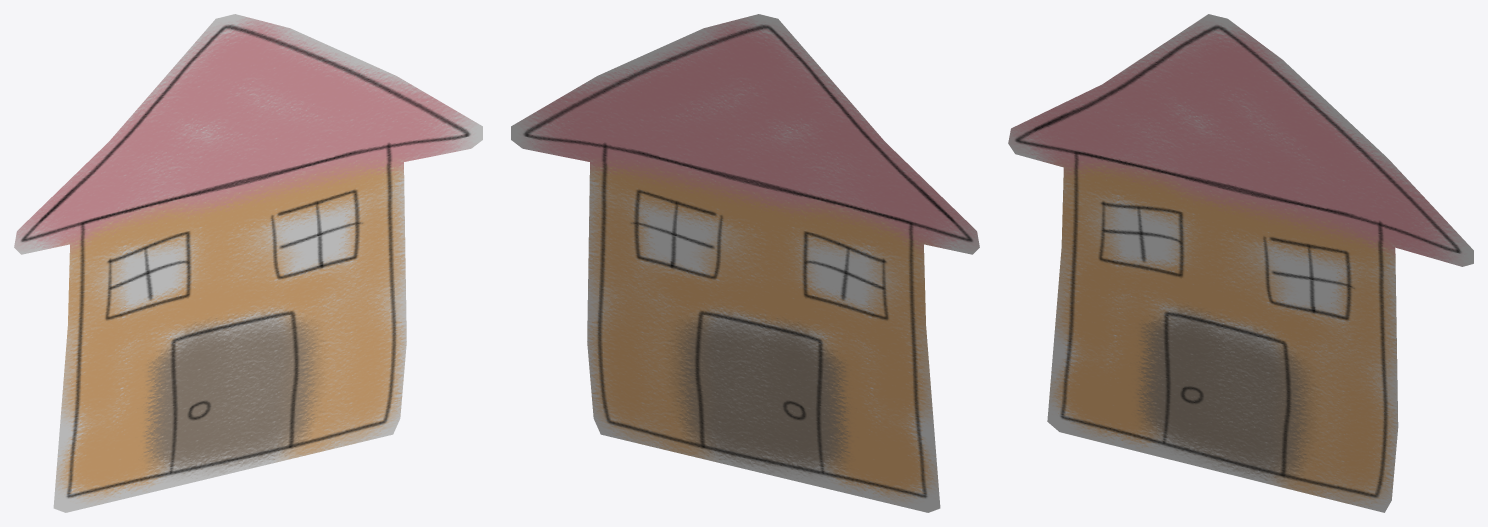
Rendered from Hus2.fbx.
3 renders of one model, left to right at view 1: azimuth 30°, elevation 25°; view 2: azimuth 150°, elevation 25°; view 3: azimuth 330°, elevation 25°, orthographic.
Parts seen in each view (by area): view 1: Plane.012; view 2: Plane.012; view 3: Plane.012.
Part boxes in pixels (x1,y1,x2,y2): Plane.012: (14,14,482,512); Plane.012: (511,14,979,512); Plane.012: (1008,14,1473,512).
Bounding box in the file's own units: 413 × 387 × 6.3e-05.
Materials: 1 (1 with a texture image).
